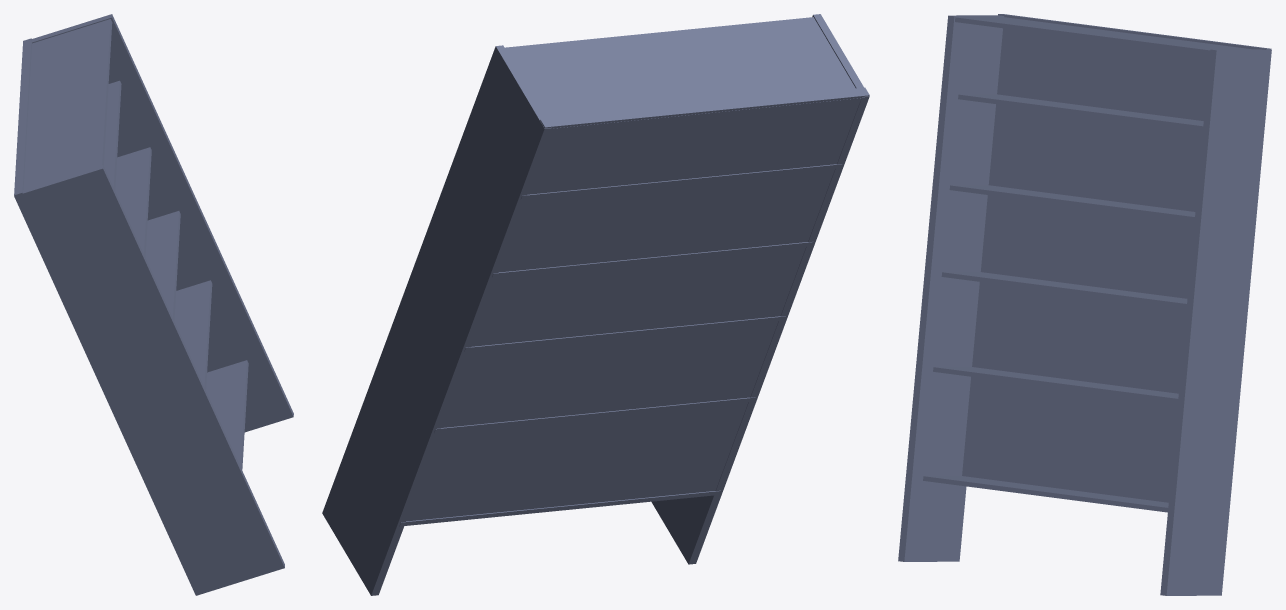
File: Bookshelf.fbx
3 views of the same model, side by side, from view 1: azimuth 30°, elevation 25°; view 2: azimuth 150°, elevation 25°; view 3: azimuth 270°, elevation 25° (orthographic). The views are drawn at different scales.
Parts seen in each view (by area): view 1: BookShelf; view 2: BookShelf; view 3: BookShelf.
Part boxes in pixels (box(x1,y1,x2,y2)): BookShelf: box(14, 14, 293, 595); BookShelf: box(322, 14, 869, 595); BookShelf: box(898, 14, 1271, 595).
Bounding box in the file's own units: 16.03 × 20.95 × 13.39.
